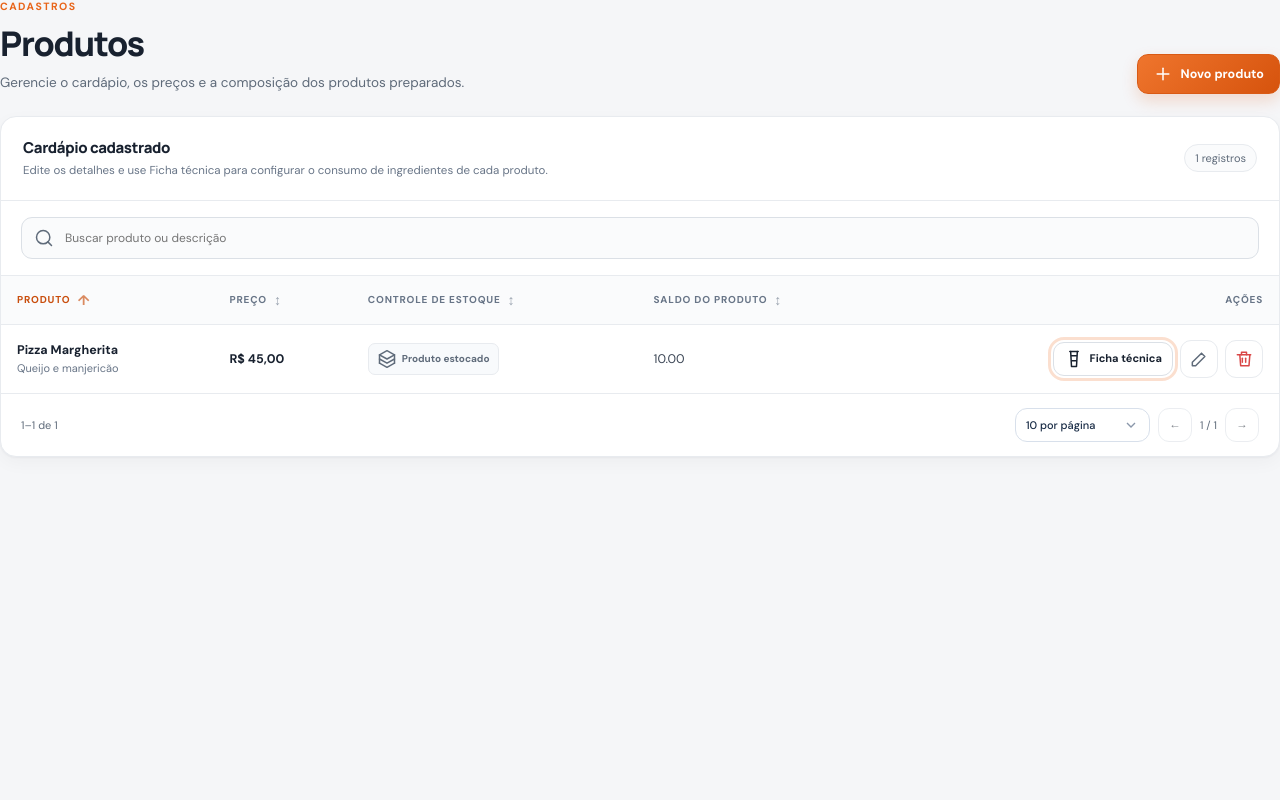
Test case: não consulta fichas e insumos até abrir a ação do produto e devolve o foco ao voltar
Expected: the text "Pizza Margherita" is shown, [17, 342, 118, 358]
Click the button with aria-label "Ficha técnica de Pizza Margherita": (1113,359) [1052, 342, 1173, 376]
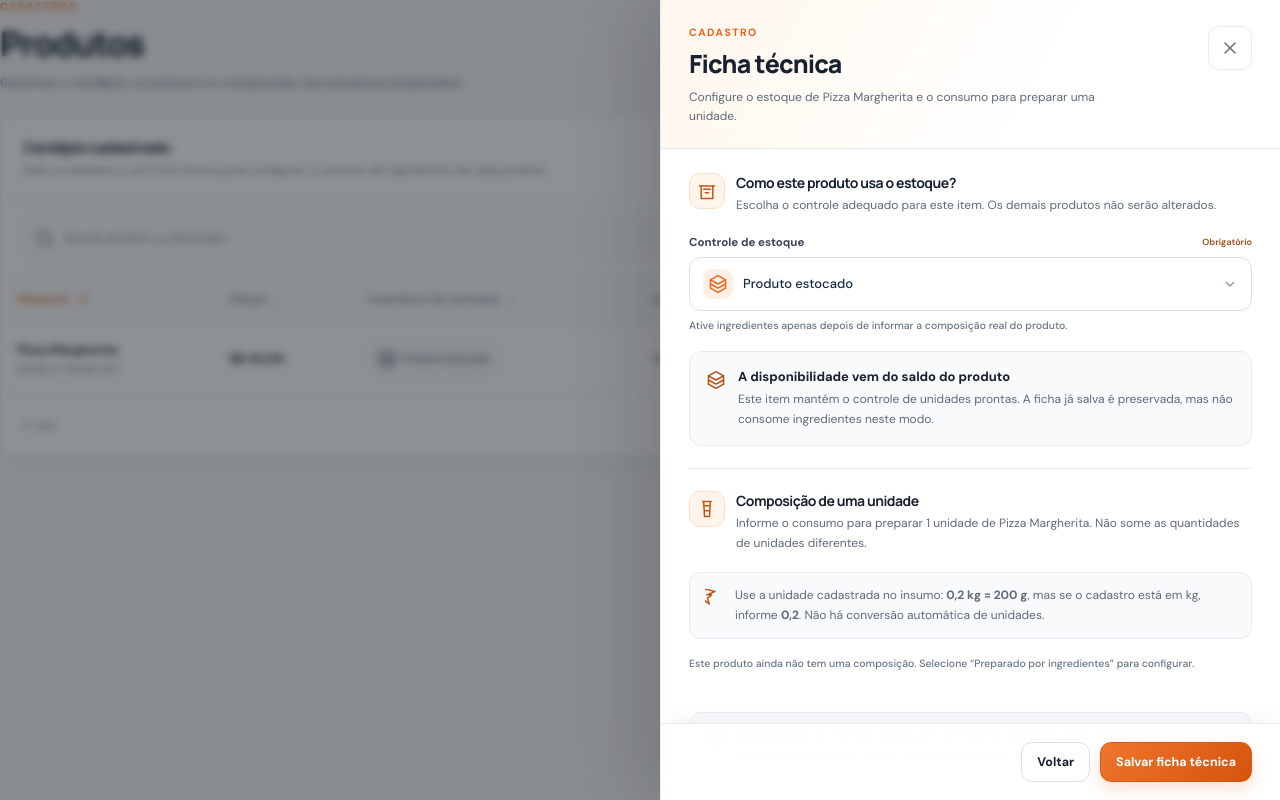
Now the dialog "Ficha técnica" is shown, box [660, 0, 1279, 799]
Now the button "Salvar ficha técnica" is shown, box [1100, 742, 1252, 782]
Click the button "Voltar": (1056,762) [1021, 742, 1090, 782]
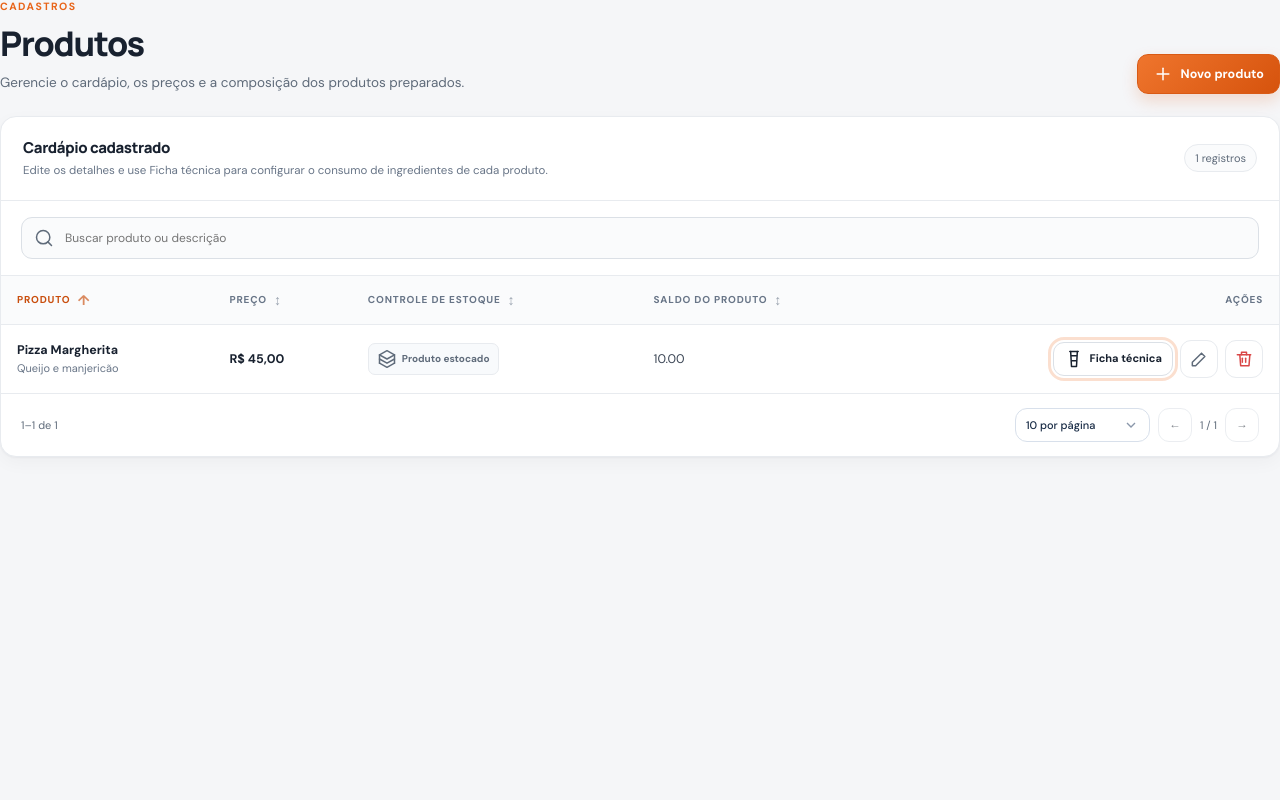
Now the dialog is gone
